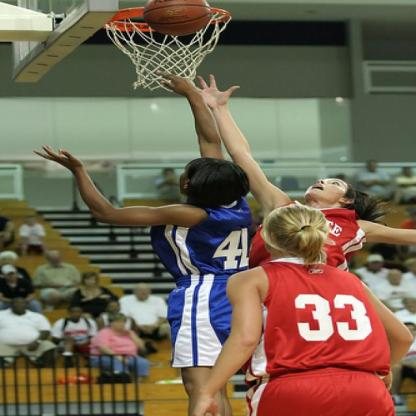basketball: (142, 0, 211, 36)
